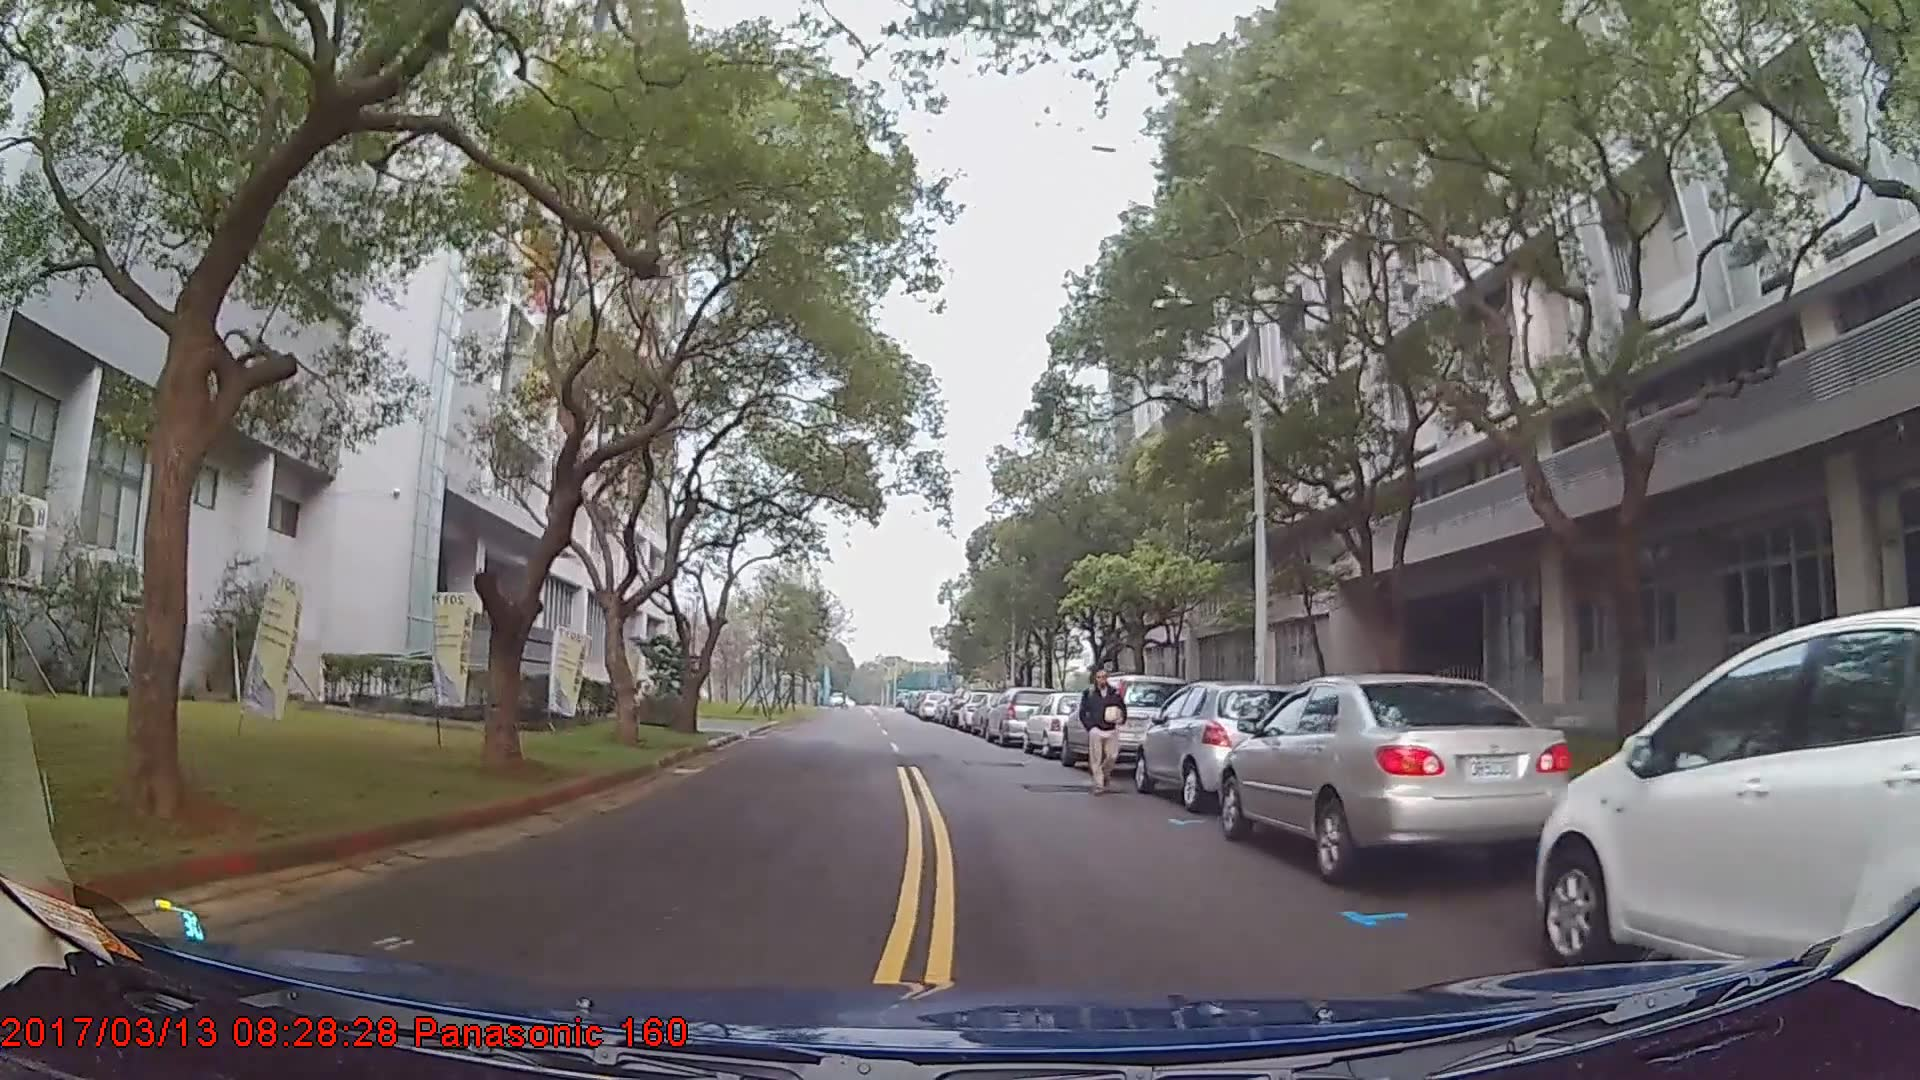pedestrian: (1081, 671, 1130, 796)
vehicle: (1536, 604, 1920, 986), (1218, 669, 1576, 887), (1134, 678, 1306, 813), (1060, 672, 1192, 775), (1021, 690, 1096, 757), (983, 685, 1059, 745)
